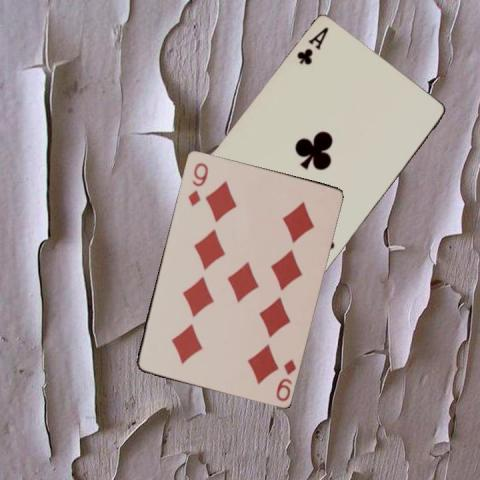9d: (272, 355, 296, 403), (185, 160, 209, 207)
Ac: (293, 24, 330, 67)
